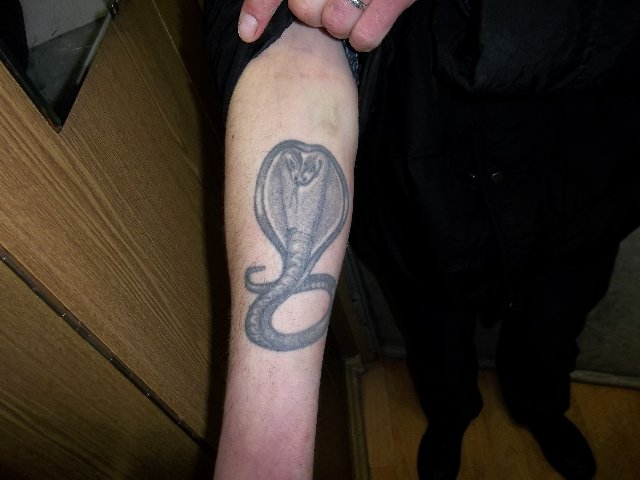tatu7_zmeya: (245, 130, 340, 369)
